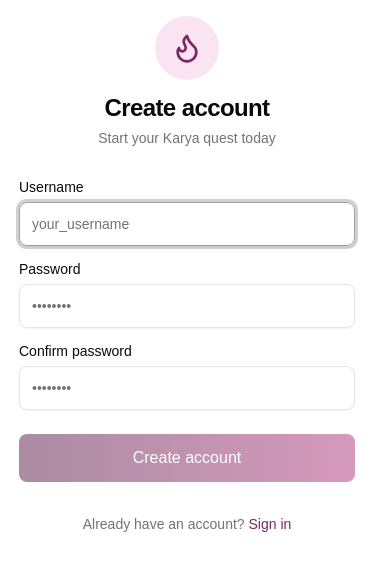
Test: hides username message once 3+ chars are typed
In the field labelled "Username": (187, 224) [19,202,355,246], type "ab"
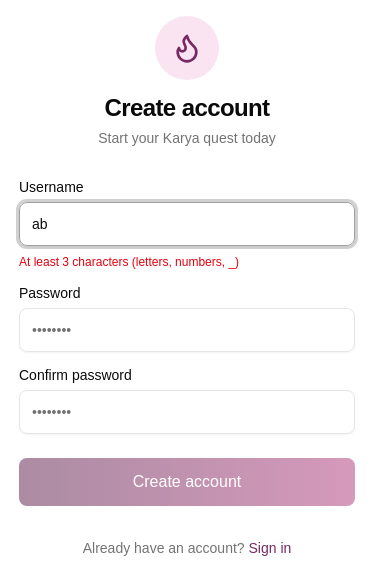
Replace the text in the field labelled "Username" with "abc": (187, 224) [19,202,355,246]
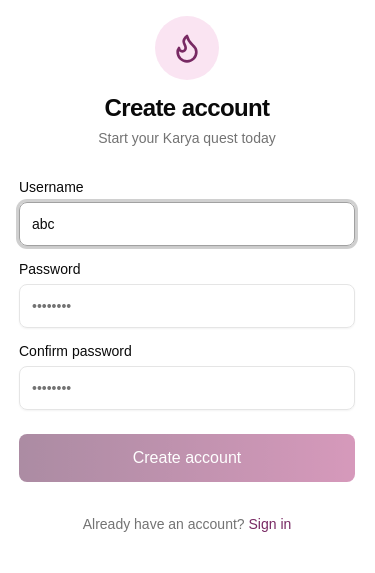
Expected: the text "At least 3 characters" is gone
